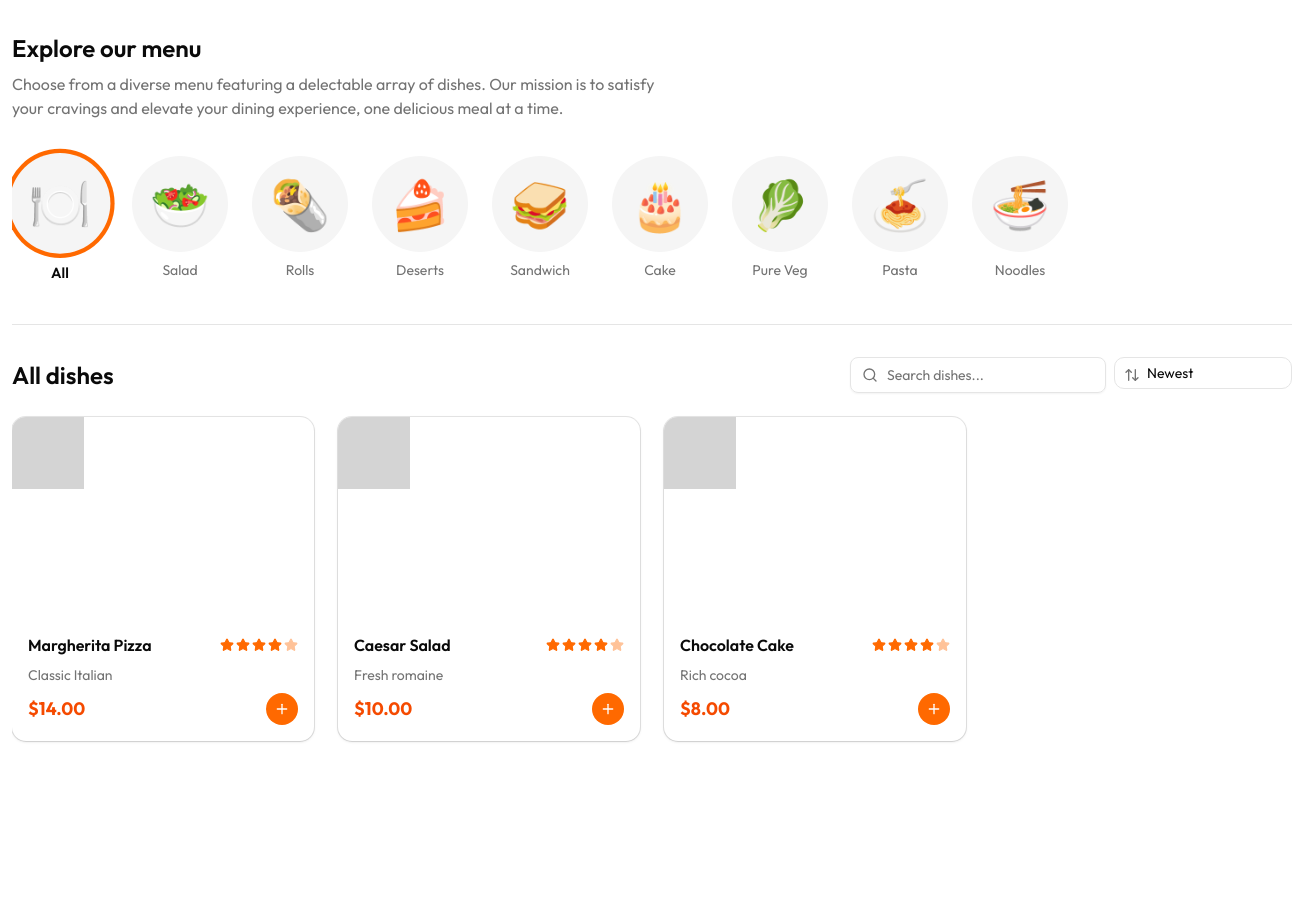
Test: FoodSection › shows category name in heading when a category is selected
Click the text "Cake" at (660, 270), box 644,260 -> 676,280
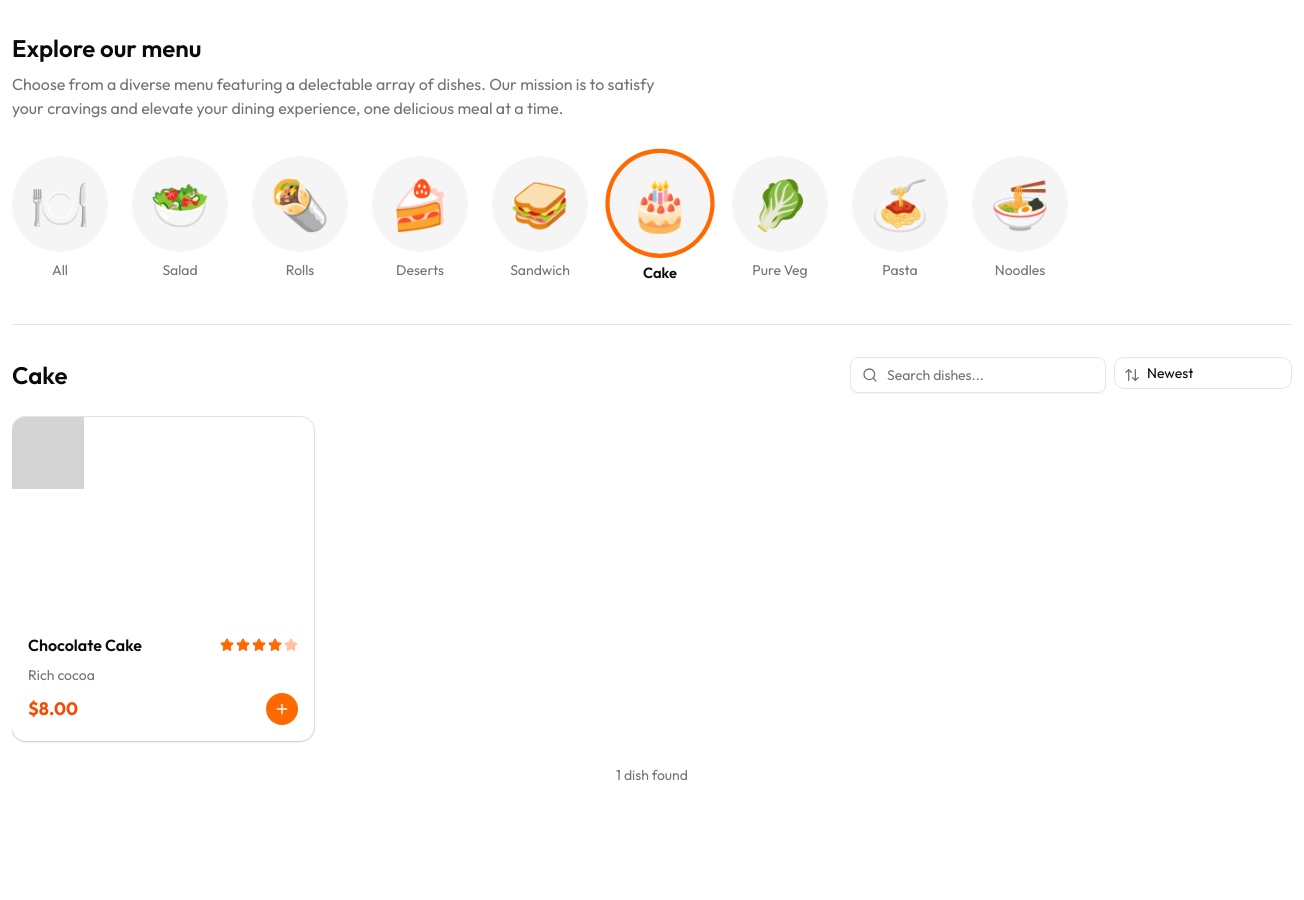
Result: the heading "Cake" is shown at 12,359 -> 67,391
